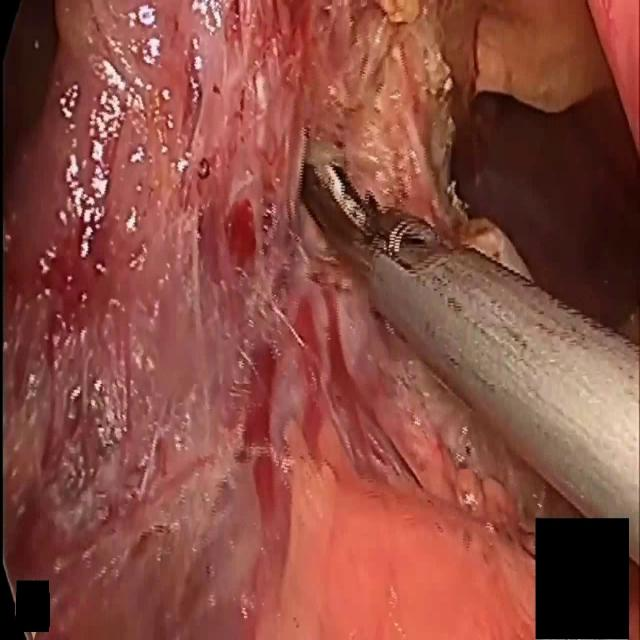surgical-area: (0, 1, 640, 639)
surgical-tool: (302, 156, 640, 567)
